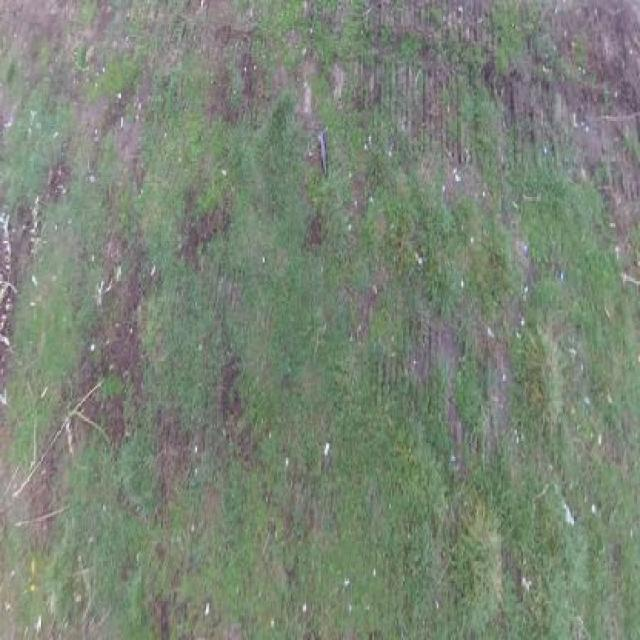Garbage: (317, 127, 327, 179)
